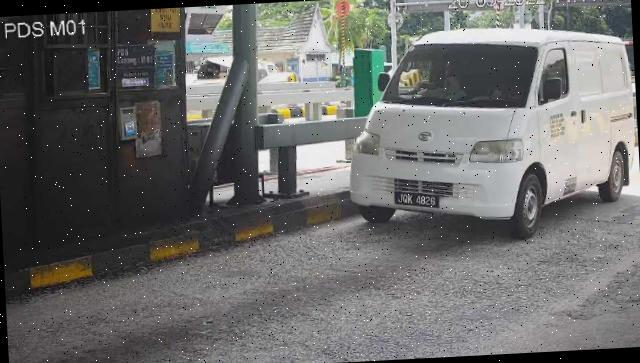License_Plate: (394, 189, 443, 213)
van: (343, 22, 640, 251)
